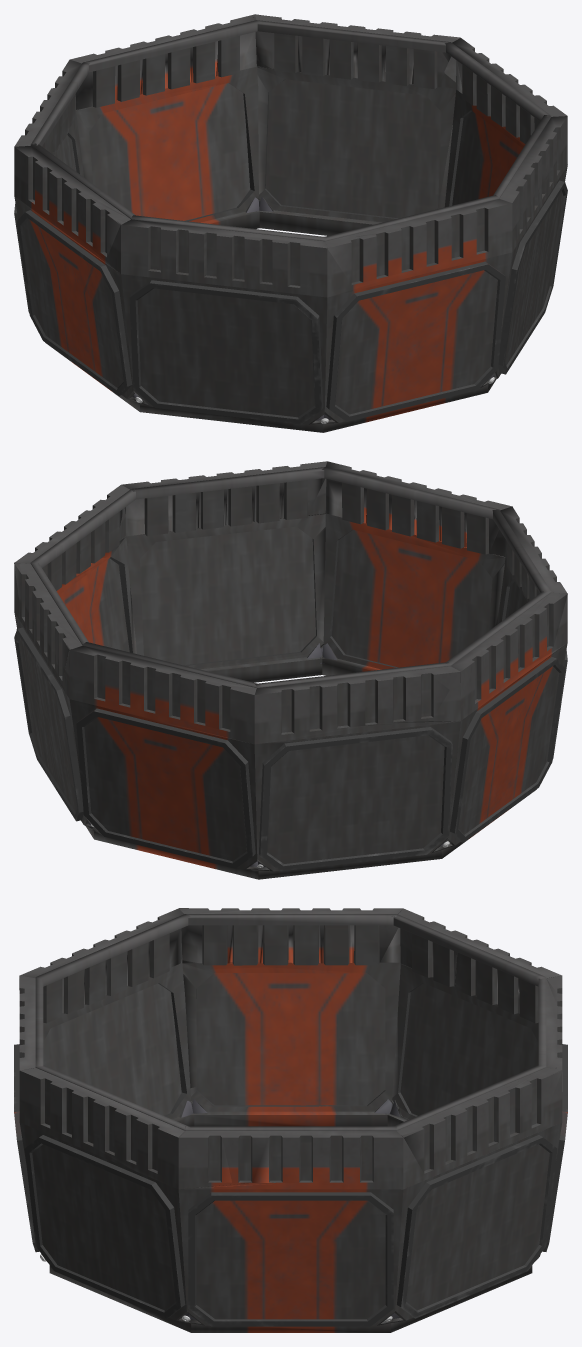
Rendered from Reactor Housing.fbx.
The picture shows the model from 3 angles, top to bottom: view 1: azimuth 30°, elevation 25°; view 2: azimuth 150°, elevation 25°; view 3: azimuth 270°, elevation 25°; orthographic projection. The views are drawn at different scales.
Parts seen in each view (by area): view 1: 2_Reactor Housing_seg01, 2_Reactor Housing_seg05, 2_Reactor Housing_seg02, 2_Reactor Housing_seg06, 2_Reactor Housing_seg08, 2_Reactor Housing_seg03, 2_Reactor Housing_seg04, 2_Reactor Housing_seg07; view 2: 2_Reactor Housing_seg07, 2_Reactor Housing_seg03, 2_Reactor Housing_seg06, 2_Reactor Housing_seg02, 2_Reactor Housing_seg08, 2_Reactor Housing_seg05, 2_Reactor Housing_seg04, 2_Reactor Housing_seg01; view 3: 2_Reactor Housing_seg08, 2_Reactor Housing_seg04, 2_Reactor Housing_seg03, 2_Reactor Housing_seg05, 2_Reactor Housing_seg01, 2_Reactor Housing_seg07, 2_Reactor Housing_seg02, 2_Reactor Housing_seg06.
Part boxes in pixels (x1=…): 2_Reactor Housing_seg01: x1=121, y1=215, x2=328, y2=432; 2_Reactor Housing_seg05: x1=253, y1=14, x2=460, y2=235; 2_Reactor Housing_seg02: x1=323, y1=195, x2=512, y2=432; 2_Reactor Housing_seg06: x1=70, y1=14, x2=261, y2=228; 2_Reactor Housing_seg08: x1=14, y1=143, x2=139, y2=411; 2_Reactor Housing_seg03: x1=488, y1=115, x2=567, y2=392; 2_Reactor Housing_seg04: x1=444, y1=38, x2=567, y2=207; 2_Reactor Housing_seg07: x1=14, y1=59, x2=89, y2=312; 2_Reactor Housing_seg07: x1=254, y1=662, x2=460, y2=879; 2_Reactor Housing_seg03: x1=121, y1=461, x2=327, y2=682; 2_Reactor Housing_seg06: x1=69, y1=642, x2=258, y2=879; 2_Reactor Housing_seg02: x1=320, y1=461, x2=512, y2=675; 2_Reactor Housing_seg08: x1=442, y1=591, x2=567, y2=858; 2_Reactor Housing_seg05: x1=14, y1=562, x2=93, y2=838; 2_Reactor Housing_seg04: x1=15, y1=485, x2=136, y2=653; 2_Reactor Housing_seg01: x1=492, y1=506, x2=567, y2=759; 2_Reactor Housing_seg08: x1=179, y1=908, x2=402, y2=1126; 2_Reactor Housing_seg04: x1=178, y1=1126, x2=403, y2=1332; 2_Reactor Housing_seg03: x1=19, y1=1065, x2=190, y2=1332; 2_Reactor Housing_seg05: x1=391, y1=1065, x2=562, y2=1332; 2_Reactor Housing_seg01: x1=20, y1=908, x2=194, y2=1126; 2_Reactor Housing_seg07: x1=386, y1=908, x2=561, y2=1126; 2_Reactor Housing_seg02: x1=14, y1=975, x2=46, y2=1261; 2_Reactor Housing_seg06: x1=535, y1=975, x2=567, y2=1261.
Bounding box in the file's own units: 28.76 × 11.99 × 28.76.
